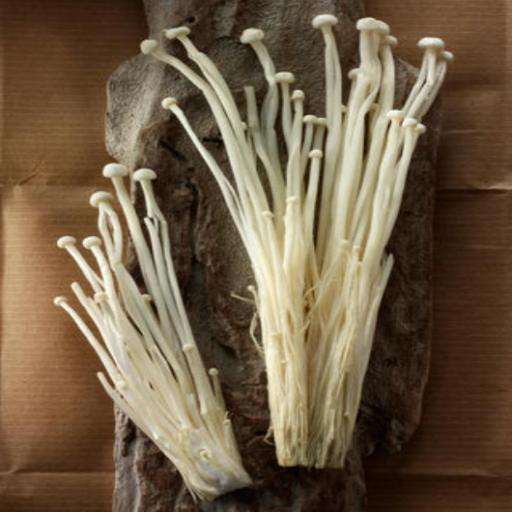Enoki Mushroom: (39, 0, 465, 490), (7, 145, 265, 512)
